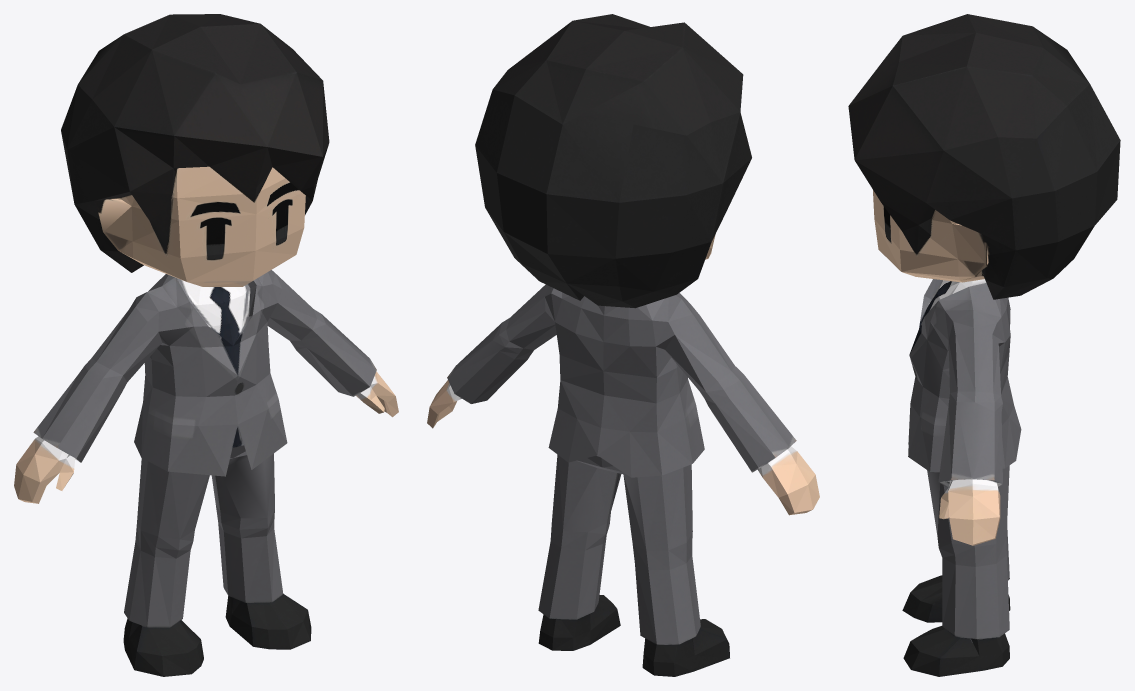
The model's file is a-image.glb.
3 views of the same model, side by side, from view 1: azimuth 30°, elevation 25°; view 2: azimuth 150°, elevation 25°; view 3: azimuth 270°, elevation 25° (orthographic). The views are drawn at different scales.
Bounding box in the file's own units: 1.29 × 2 × 0.822.
1 material, 1 textured.
